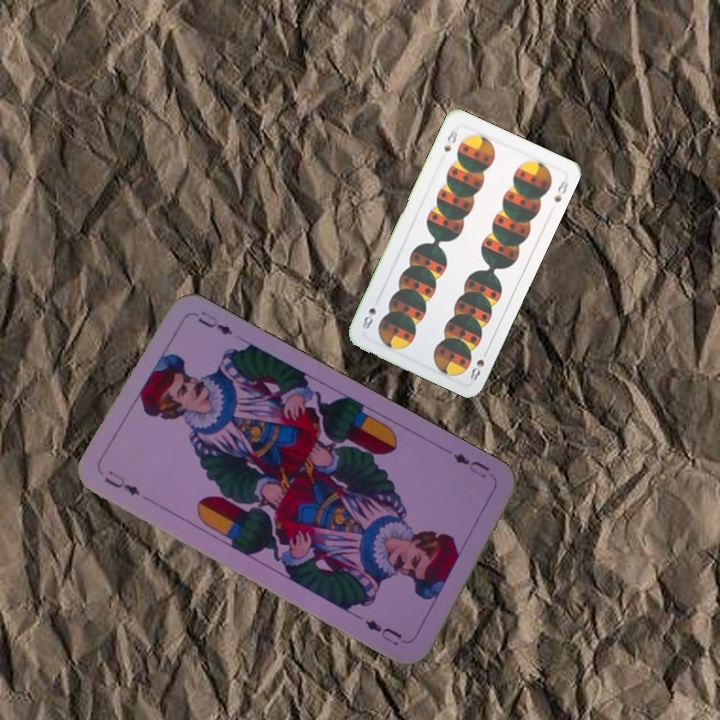EU: (449, 449, 492, 481), (100, 466, 143, 498)
S8: (466, 345, 491, 383), (440, 126, 460, 154)
